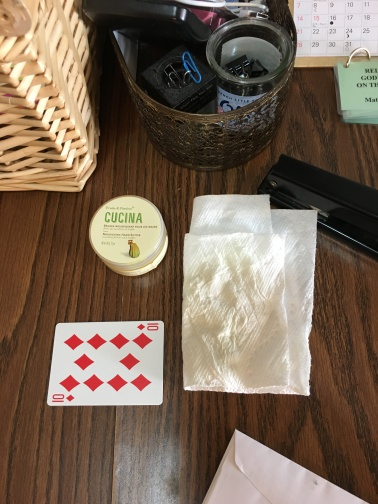ten: (43, 320, 167, 407)
